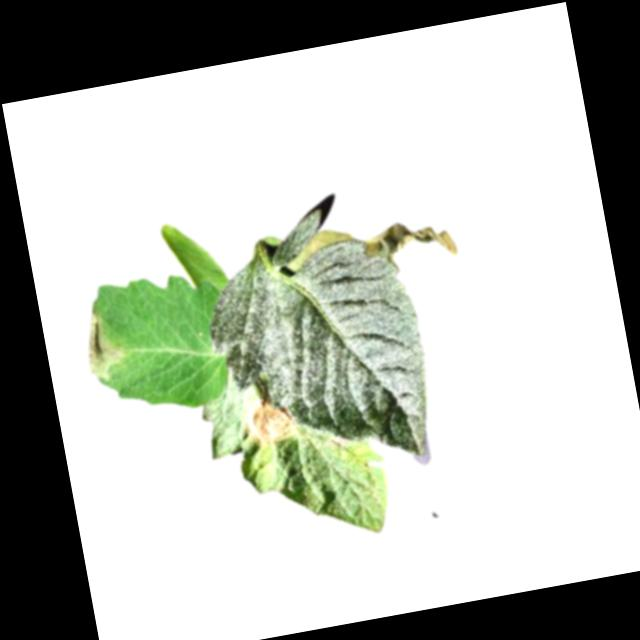Late_blight: (363, 212, 459, 274), (78, 300, 130, 383), (239, 394, 294, 448), (328, 435, 347, 452)
healthy: (197, 232, 441, 487)
